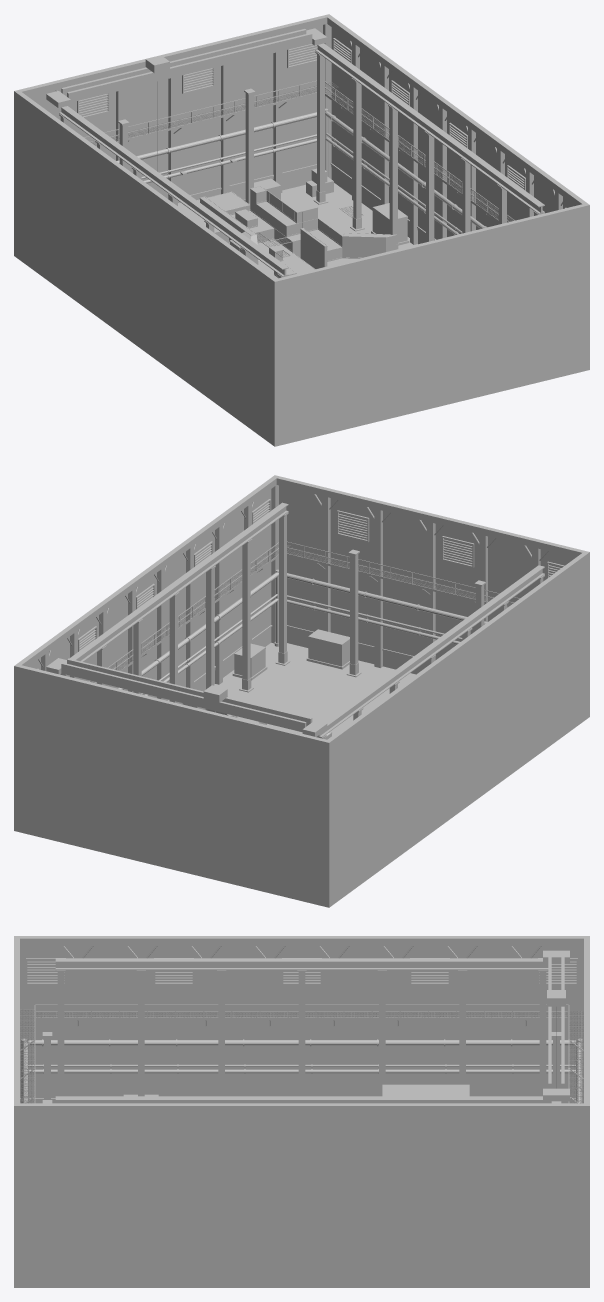
The model's file is Map3Warehouse.fbx.
3 renders of one model, top to bottom at view 1: azimuth 30°, elevation 25°; view 2: azimuth 150°, elevation 25°; view 3: azimuth 270°, elevation 25°, orthographic. The views are drawn at different scales.
Parts seen in each view (by area): view 1: Env_Walls, Env_SteelFrame, Env_Columns, Walls, Env_Catwalk, Env_Pipes, Env_Floor, Env_Machinery, I_Spawn, I_Mid, Wall_Coping, I_Smallparts; view 2: Env_Walls, Env_SteelFrame, Env_Columns, Env_Floor, Env_Catwalk, Env_Pipes, Env_Machinery; view 3: Env_Walls, Env_SteelFrame, Env_Columns, Env_Catwalk, Env_Pipes, Walls.
Boxes of the visible parts, <box> form: Env_Walls: <box>14,25,589,446</box>; Env_SteelFrame: <box>14,14,589,281</box>; Env_Columns: <box>46,28,544,277</box>; Walls: <box>178,186,396,268</box>; Env_Catwalk: <box>84,80,514,222</box>; Env_Pipes: <box>116,108,486,235</box>; Env_Floor: <box>244,183,417,248</box>; Env_Machinery: <box>244,168,409,245</box>; I_Spawn: <box>197,192,296,242</box>; I_Mid: <box>257,239,358,278</box>; Wall_Coping: <box>178,186,396,250</box>; I_Smallparts: <box>229,209,341,274</box>; Env_Walls: <box>14,485,589,907</box>; Env_SteelFrame: <box>14,475,589,742</box>; Env_Columns: <box>46,502,544,738</box>; Env_Floor: <box>214,642,415,735</box>; Env_Catwalk: <box>89,541,519,683</box>; Env_Pipes: <box>117,569,487,695</box>; Env_Machinery: <box>182,629,349,709</box>; Env_Walls: <box>14,946,589,1287</box>; Env_SteelFrame: <box>14,936,589,1105</box>; Env_Columns: <box>42,950,569,1103</box>; Env_Catwalk: <box>20,1004,583,1103</box>; Env_Pipes: <box>21,1038,582,1103</box>; Walls: <box>383,1085,468,1096</box>.
Bounding box in the file's own units: 3000 × 1593 × 4300.
